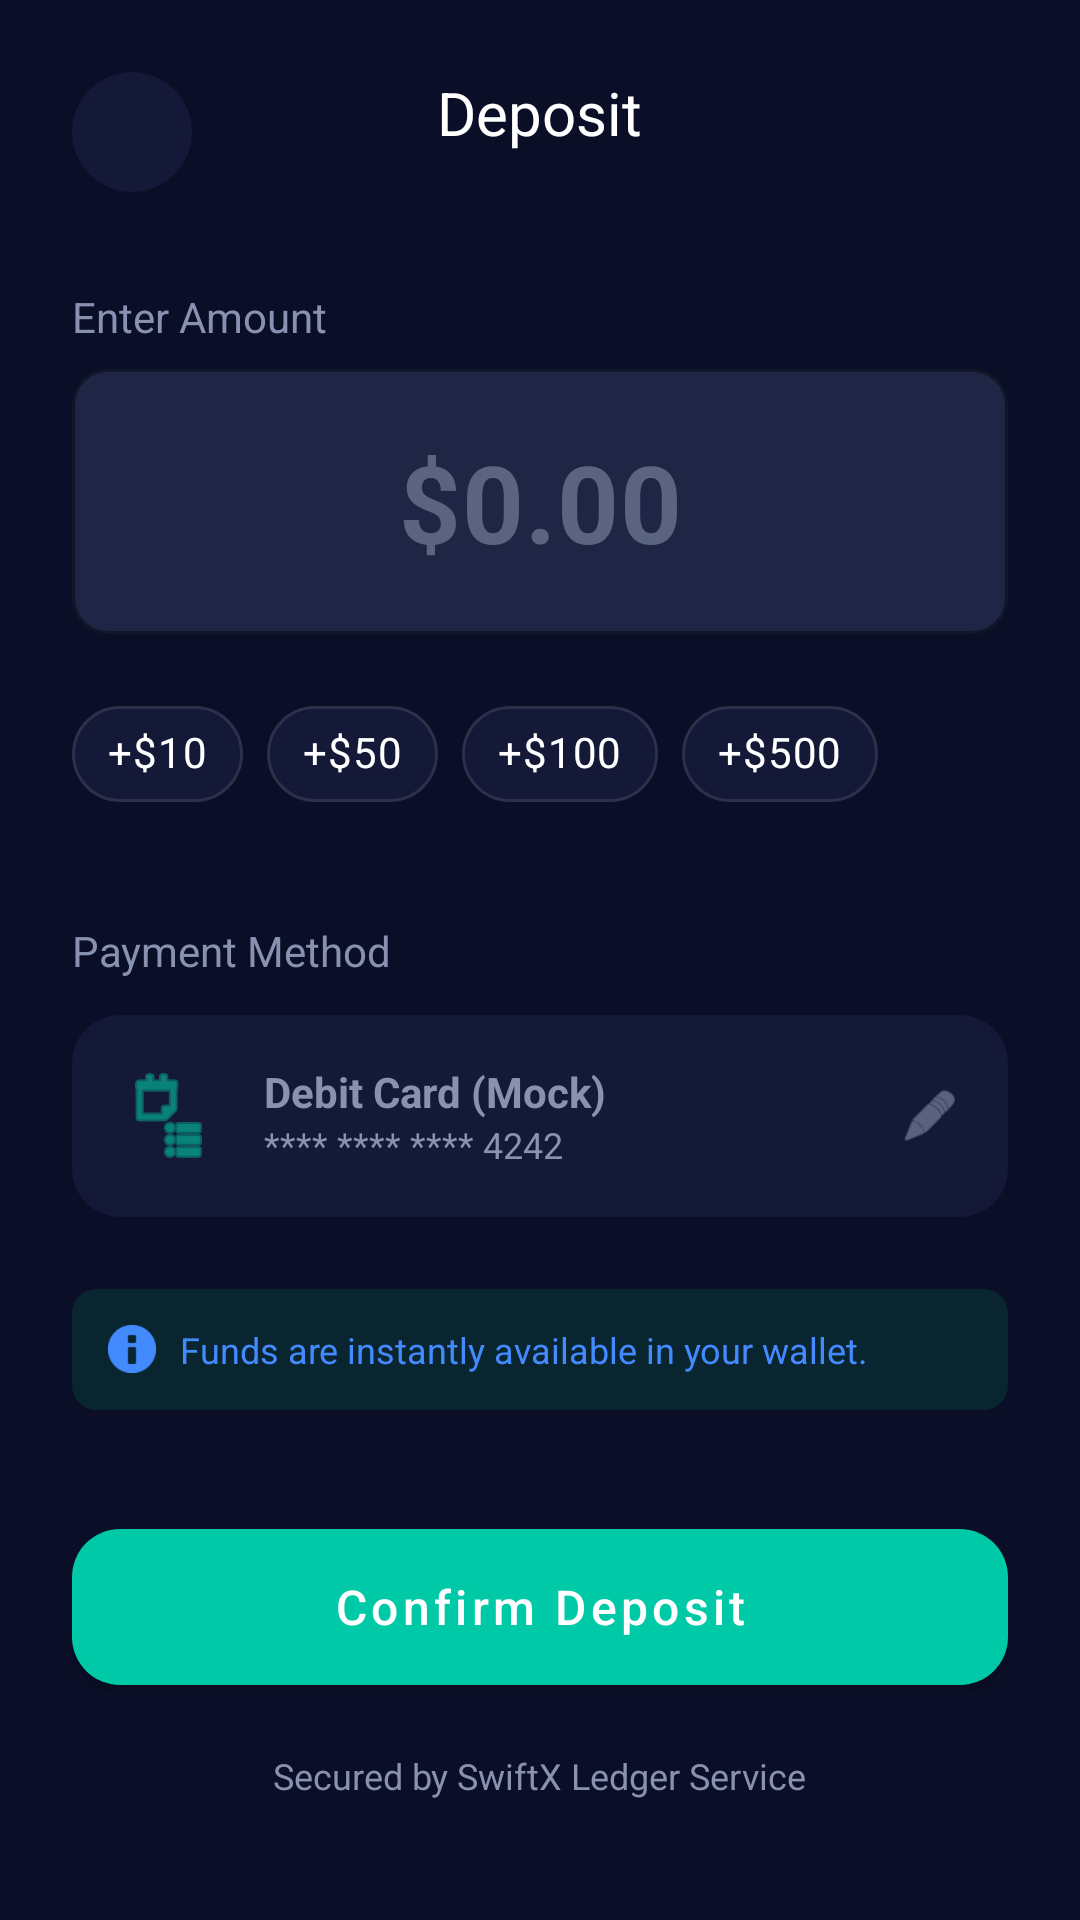

Where icons sit on this 1080px×1920px app screen, as [left=x1, top=y1, right=x2, bottom=y2]:
Edit payment method: [left=905, top=1090, right=955, bottom=1141]
Info icon: [left=108, top=1325, right=156, bottom=1373]
